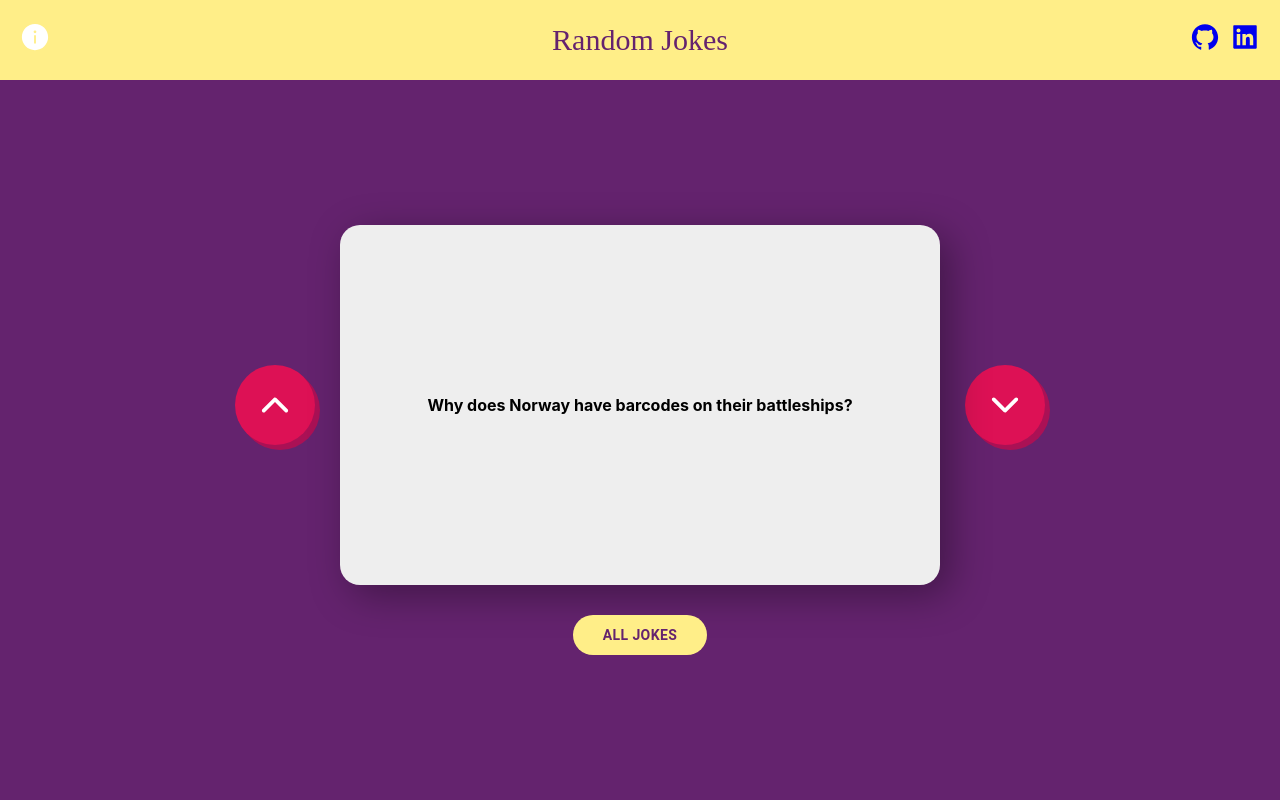
Test case: Change jokes when revealed does not reveal the next joke
The image size is (1280, 800).
Expected: the text "Why does Norway have barcodes on their battleships?" is shown, [427,395,853,415]
Expected: the text "So when they get back to port, they can Scandinavian." is not shown
What coordinates should you click on to do the following:
click the button with test id "joke-card-setup"
I would click on:
 (640, 405)
Its box is [340,225,940,585].
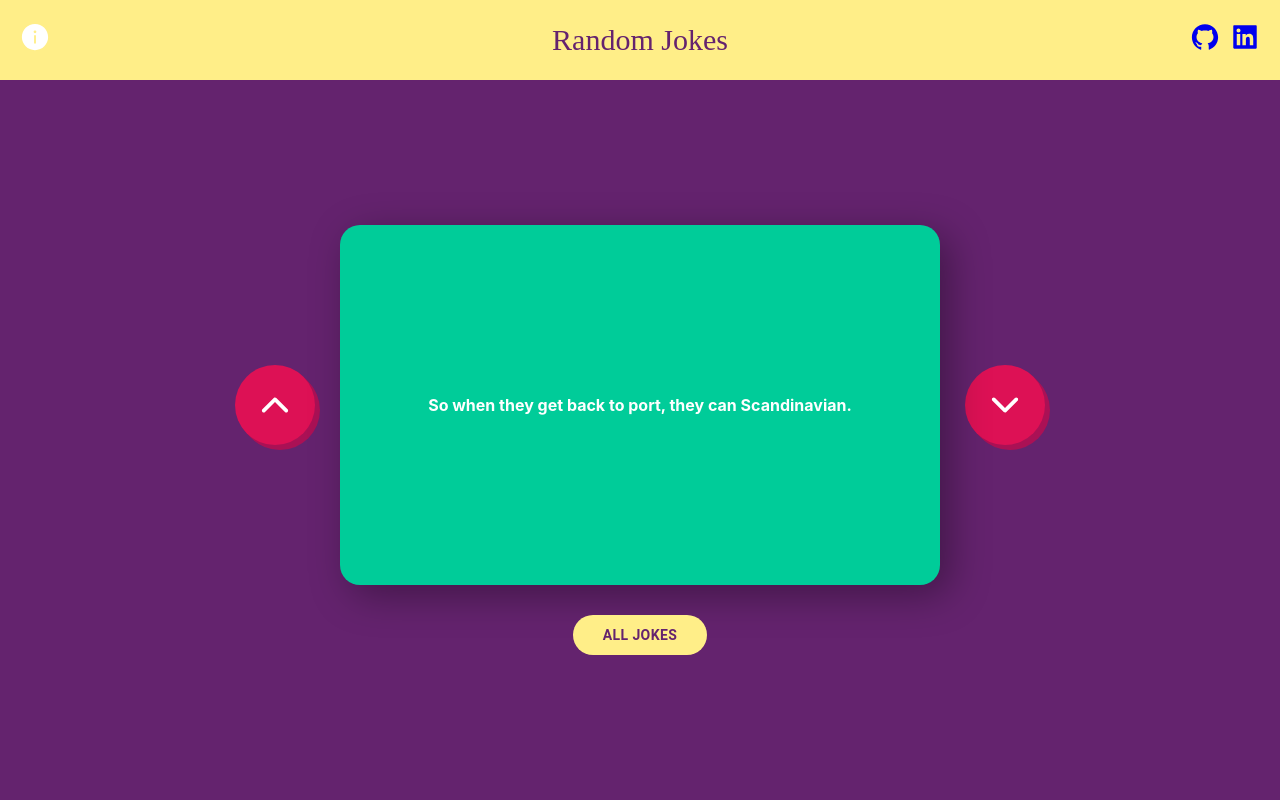
What coordinates should you click on to do the following:
click the button with test id "down-button"
I would click on:
 (1005, 405)
Its box is [965,365,1045,445].
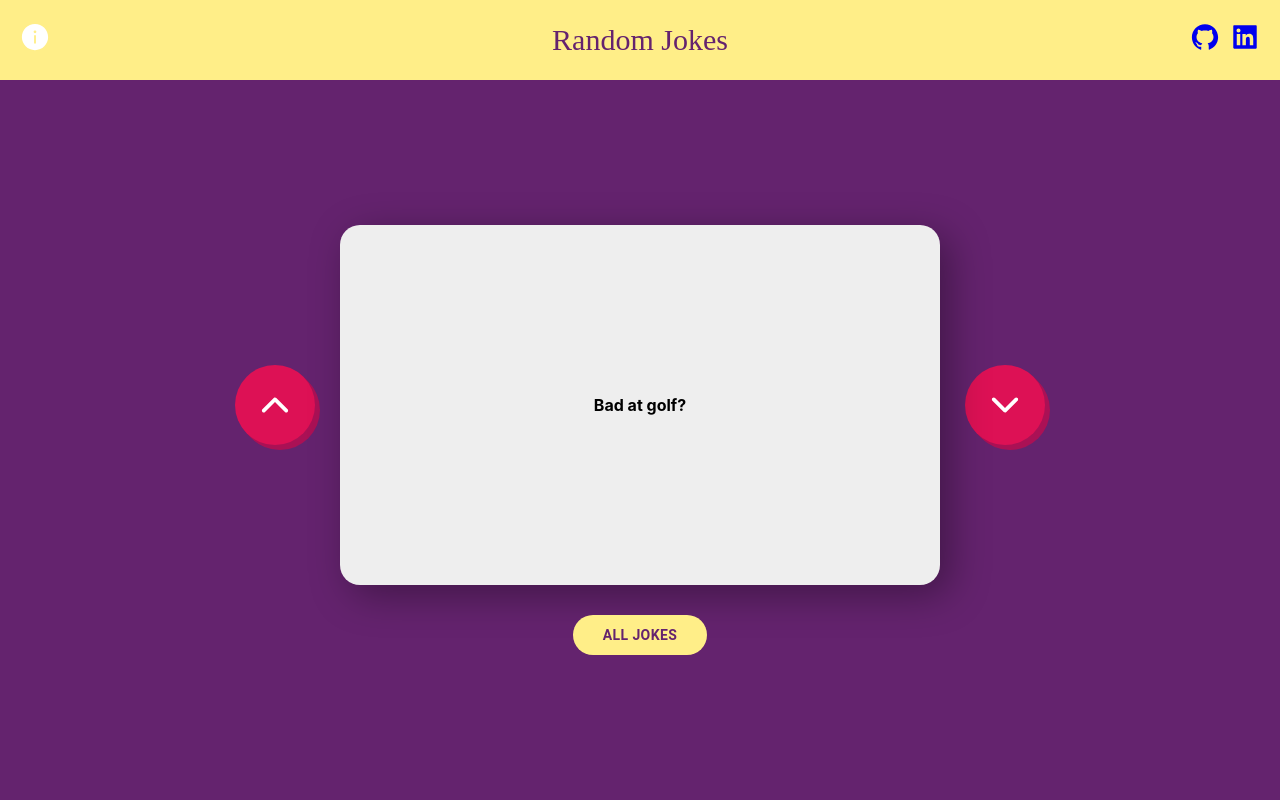
Expected: the text "Bad at golf?" is shown, [594,395,686,415]
Expected: the text "So when they get back to port, they can Scandinavian." is gone
